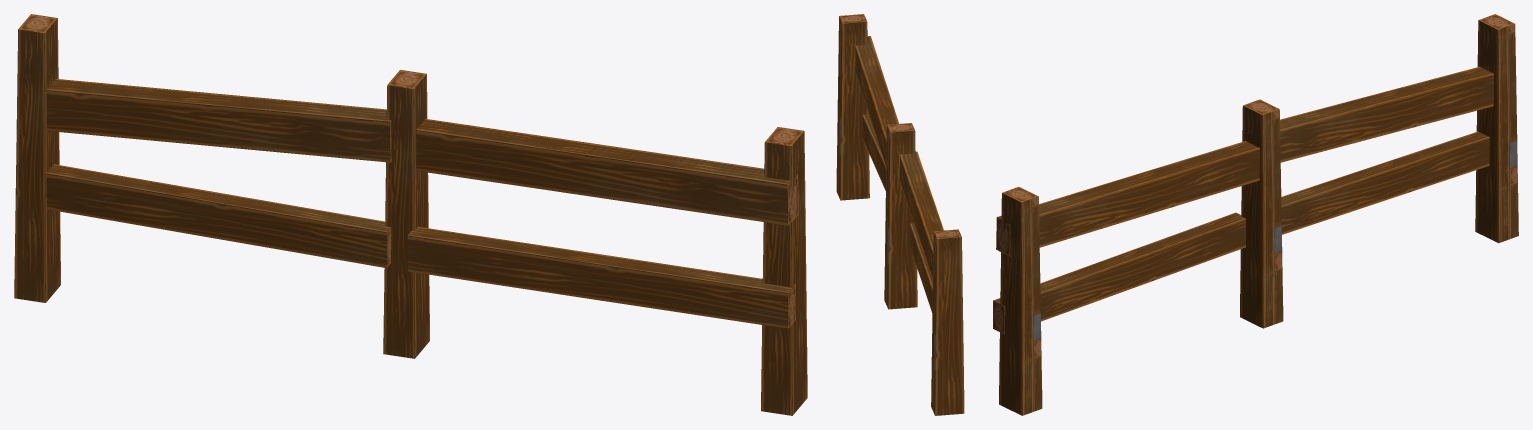
3 renders of one model, left to right at view 1: azimuth 30°, elevation 25°; view 2: azimuth 150°, elevation 25°; view 3: azimuth 270°, elevation 25°, orthographic. The views are drawn at different scales.
Visible parts, largest first — view 1: Cube.1928; view 2: Cube.1928; view 3: Cube.1928.
Part boxes in pixels (left/top/right/bottom): Cube.1928: left=14, top=14, right=807, bottom=415; Cube.1928: left=836, top=14, right=964, bottom=415; Cube.1928: left=993, top=14, right=1518, bottom=415.
Size of the model in its own units: 254 by 132 by 296.
1 material, 1 textured.
